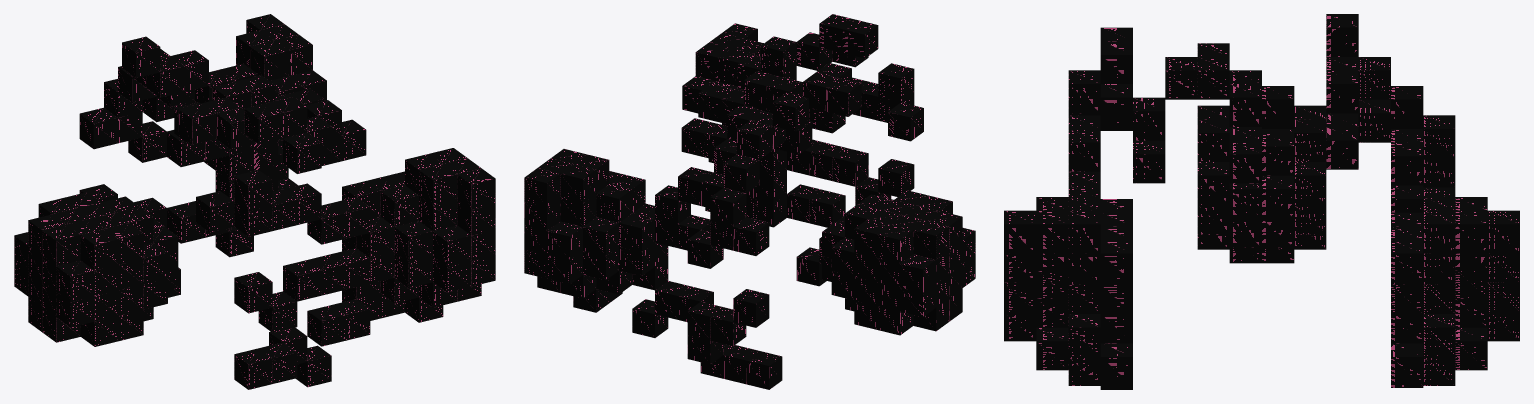
File: HuntressHat.obj
3 views of the same model, side by side, from view 1: azimuth 30°, elevation 25°; view 2: azimuth 150°, elevation 25°; view 3: azimuth 270°, elevation 25° (orthographic). The views are drawn at different scales.
Parts seen in each view (by area): view 1: 0-head.base-opaque, 0-head.base-transparent-glowing, 0-head.base-glowing; view 2: 0-head.base-opaque, 0-head.base-transparent-glowing, 0-head.base-glowing; view 3: 0-head.base-opaque, 0-head.base-transparent-glowing, 0-head.base-glowing.
Boxes of the visible parts, x1=… form: 0-head.base-opaque: x1=79, y1=14, x2=495, y2=389; 0-head.base-transparent-glowing: x1=14, y1=192, x2=178, y2=346; 0-head.base-glowing: x1=79, y1=36, x2=321, y2=313; 0-head.base-opaque: x1=524, y1=14, x2=914, y2=389; 0-head.base-transparent-glowing: x1=822, y1=190, x2=975, y2=335; 0-head.base-glowing: x1=687, y1=19, x2=923, y2=364; 0-head.base-opaque: x1=1004, y1=41, x2=1519, y2=389; 0-head.base-transparent-glowing: x1=1197, y1=105, x2=1326, y2=263; 0-head.base-glowing: x1=1068, y1=14, x2=1455, y2=157.
Bounding box in the file's own units: 14 × 11 × 16.
1 material, 1 textured.
